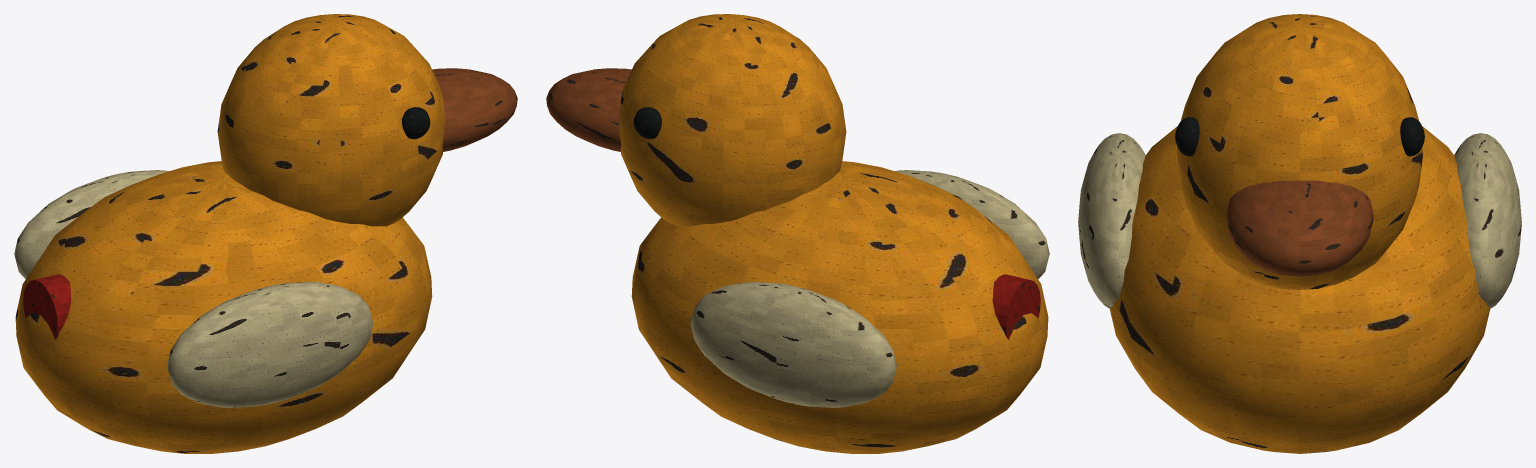
Rendered from eq-squeakduck.glb.
The picture shows the model from 3 angles, left to right: view 1: azimuth 30°, elevation 25°; view 2: azimuth 150°, elevation 25°; view 3: azimuth 270°, elevation 25°; orthographic projection. The views are drawn at different scales.
Visible parts, largest first — view 1: Body, Head.001, Wing, Beak, Wing.001, Squeaker, Eye.002; view 2: Body, Head.001, Wing.001, Beak, Wing, Squeaker, Eye.003; view 3: Body, Head.001, Beak, Wing.001, Wing, Eye.002, Eye.003.
Boxes of the visible parts, x1,y1,x2,y2 form: Body: (15,161,432,453); Head.001: (217,14,445,226); Wing: (167,282,373,407); Beak: (432,68,517,151); Wing.001: (14,170,168,279); Squeaker: (23,274,71,339); Eye.002: (402,107,430,139); Body: (631,161,1048,453); Head.001: (618,14,846,226); Wing.001: (690,282,896,407); Beak: (546,68,631,151); Wing: (895,170,1049,279); Squeaker: (992,274,1040,339); Eye.003: (633,107,661,139); Body: (1110,126,1490,453); Head.001: (1176,14,1423,289); Beak: (1226,180,1373,276); Wing.001: (1454,133,1521,309); Wing: (1078,133,1145,309); Eye.002: (1175,117,1199,156); Eye.003: (1400,117,1424,156).
Bounding box in the file's own units: 0.4 × 0.305 × 0.27.
5 materials, 5 textured.
